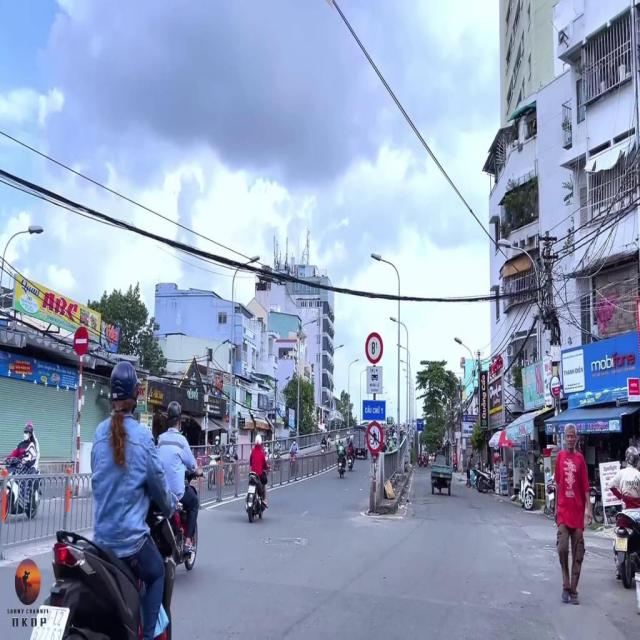cam_xe_di_nguoc_chieu: (73, 326, 89, 356)
khac: (366, 420, 384, 456), (365, 332, 385, 364), (362, 400, 387, 422), (366, 366, 382, 394), (417, 417, 425, 432)
